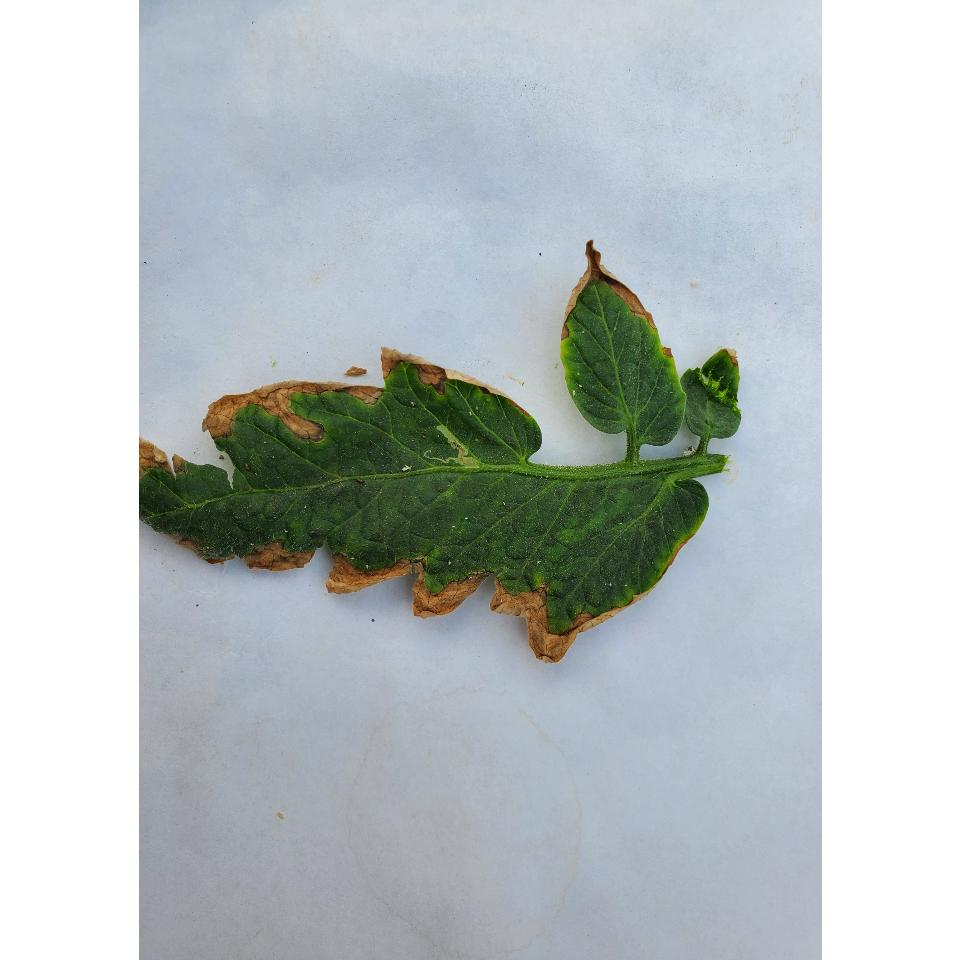tomato_bacterial_blight: (140, 358, 742, 665)
